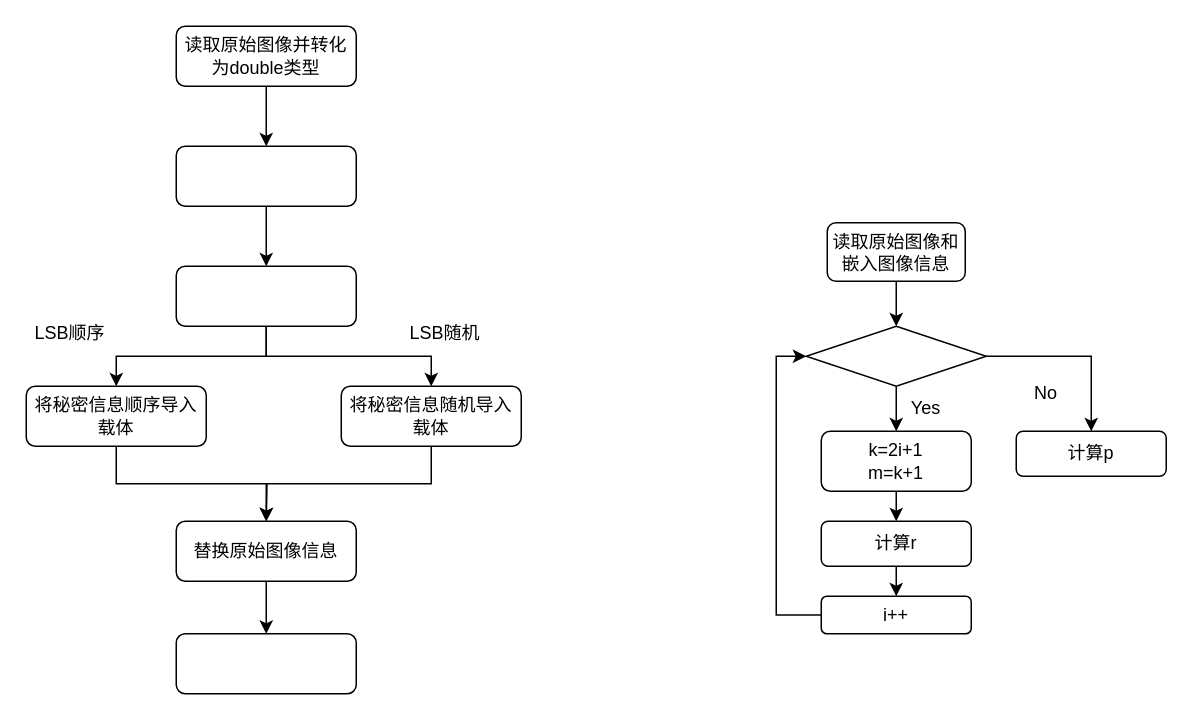
This 1193x720 diagram has some shape labels left out. The centre of each missing label's shape, as x and y in pixels:
i <=127: the point at 895,355
展示信息: the point at 265,663
设置秘密信息载体: the point at 265,175
读取秘密信息: the point at 265,295
